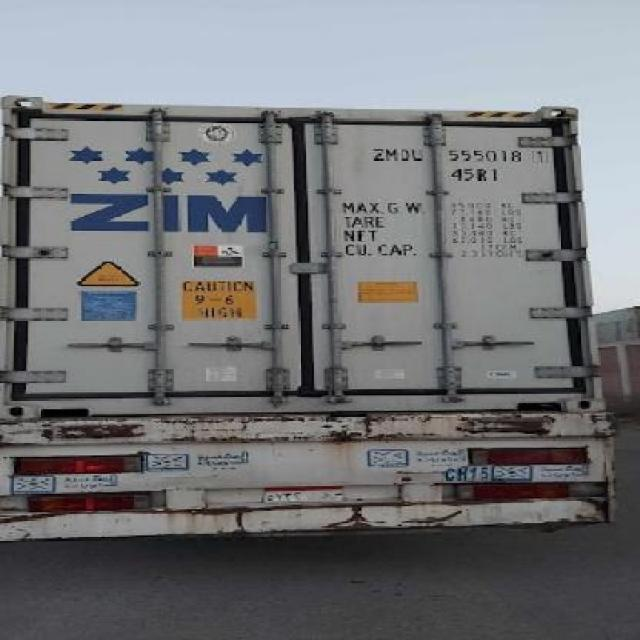ISO: (448, 164, 501, 184)
container_number: (376, 145, 540, 173)
